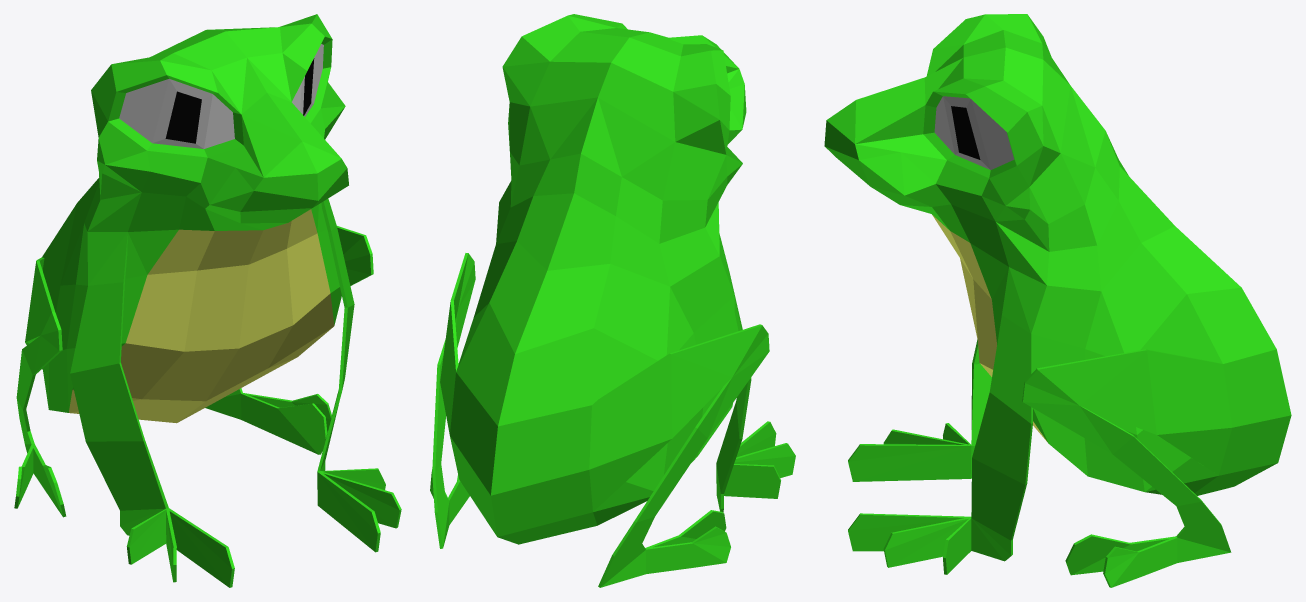
Rendered from Frogger.fbx.
3 views of the same model, side by side, from view 1: azimuth 30°, elevation 25°; view 2: azimuth 150°, elevation 25°; view 3: azimuth 270°, elevation 25° (orthographic). The views are drawn at different scales.
Visible parts, largest first — view 1: Frog; view 2: Frog; view 3: Frog.
Part boxes in pixels (x1,y1,x2,y2): Frog: [14, 14, 401, 587]; Frog: [430, 14, 795, 587]; Frog: [824, 14, 1291, 587].
Size of the model in its own units: 109 by 158 by 143.
